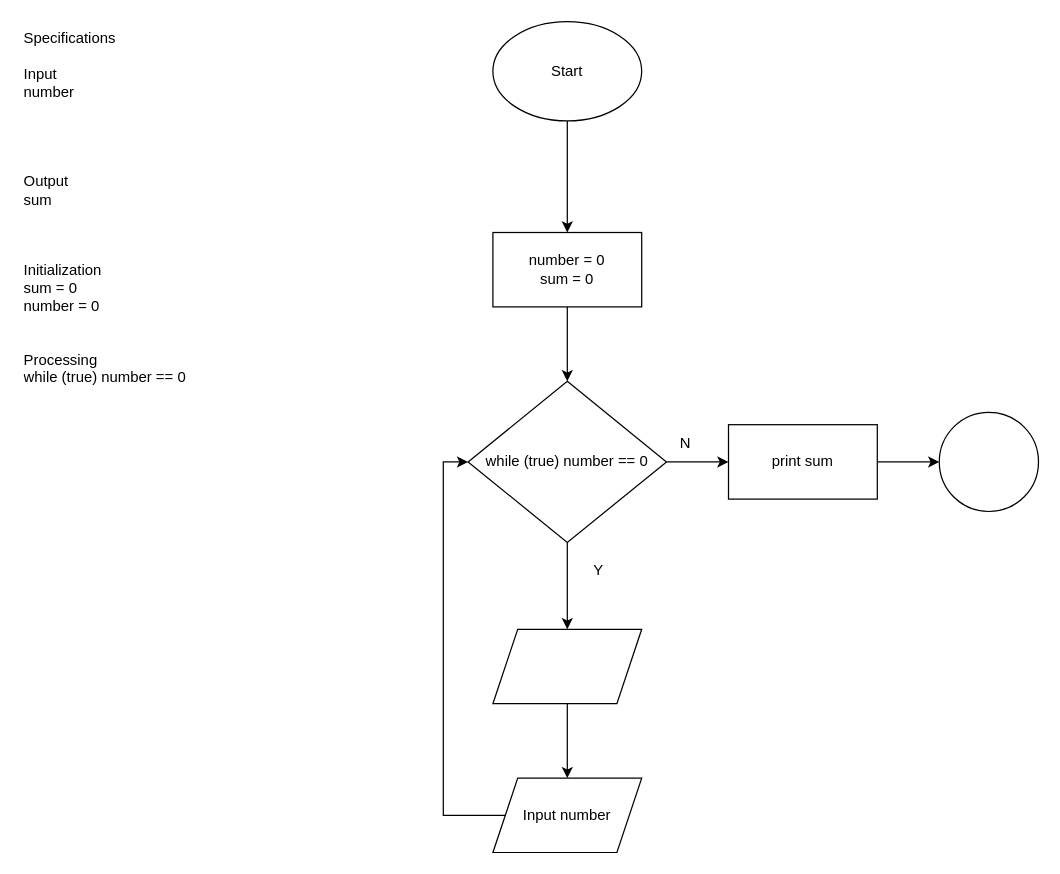
Some shapes in this 1060 by 874 pixel diagram are drawn without their labels. Here are the shapes that lost their labels. From the top down, the centre of each, then its label:
At pixel 988 461: "End".
At pixel 567 666: "Enter number".
